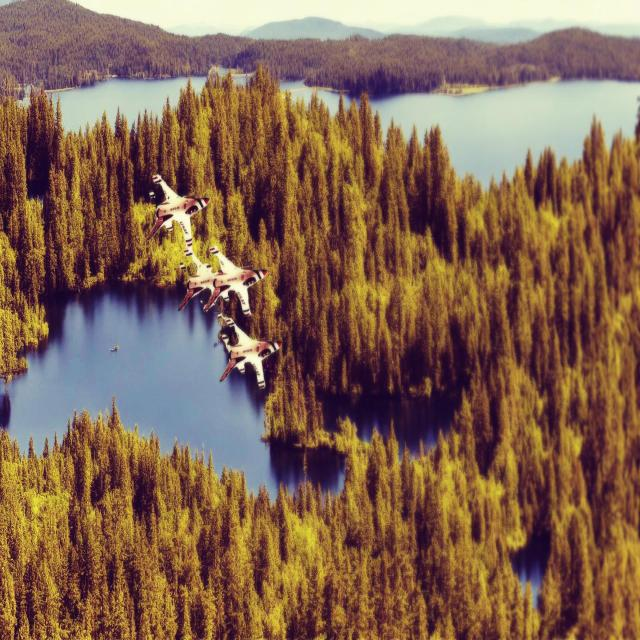airplane: (177, 245, 268, 316), (146, 172, 210, 255), (214, 312, 282, 389)
